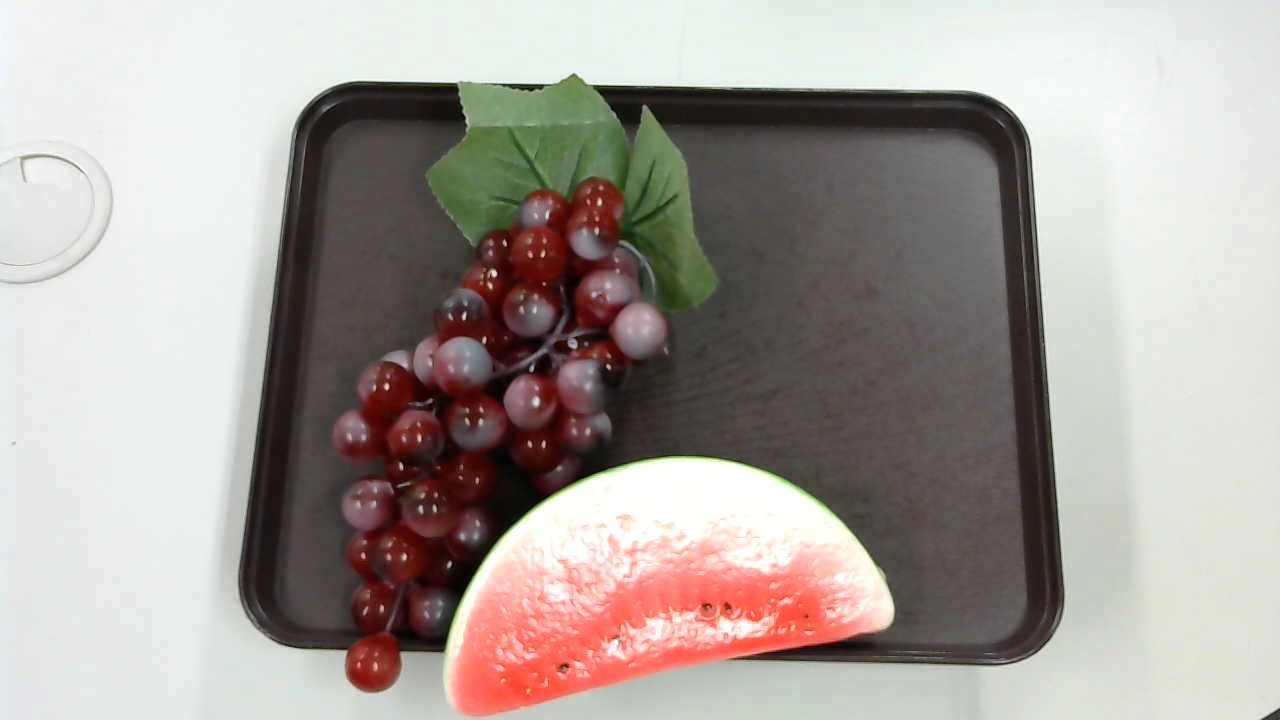grape: (327, 73, 730, 685)
water melon: (439, 451, 907, 717)
